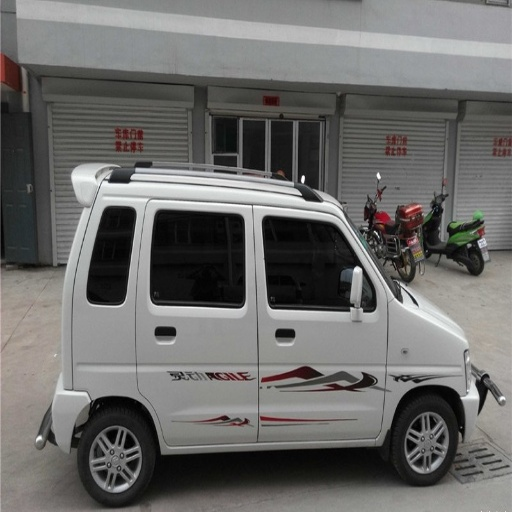tailgate: (445, 24, 491, 72)
